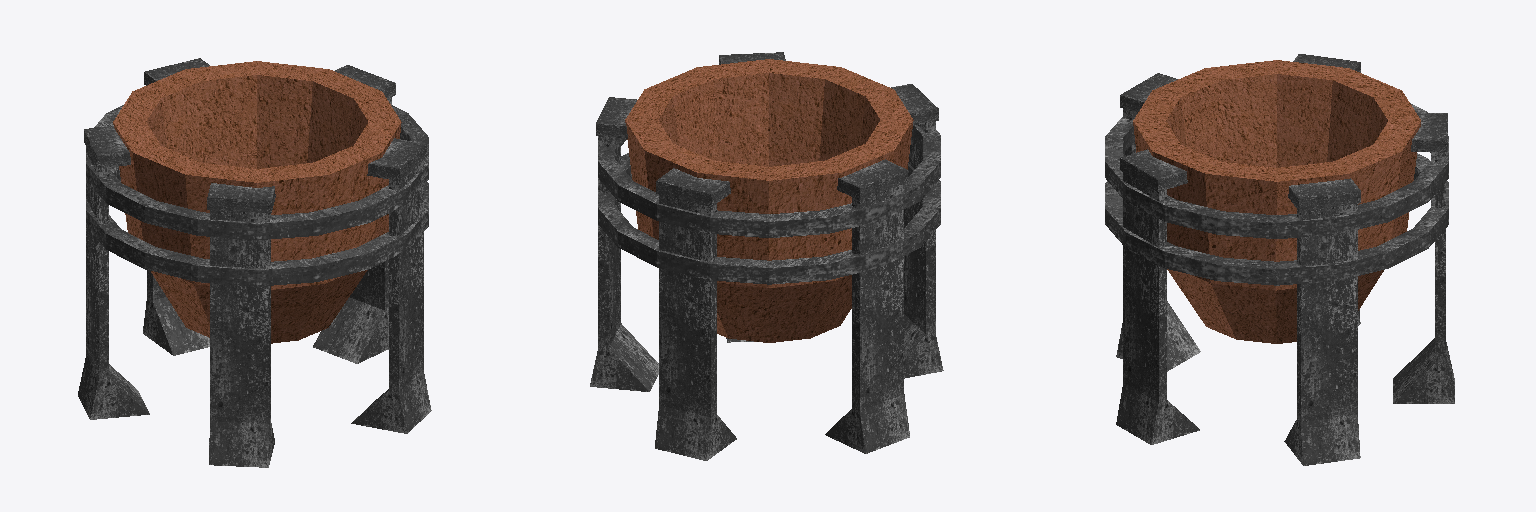
3 renders of one model, left to right at view 1: azimuth 30°, elevation 25°; view 2: azimuth 150°, elevation 25°; view 3: azimuth 270°, elevation 25°, orthographic.
Bounding box in the file's own units: 59.17 × 49.53 × 58.04.
Materials: 3 (2 with a texture image).